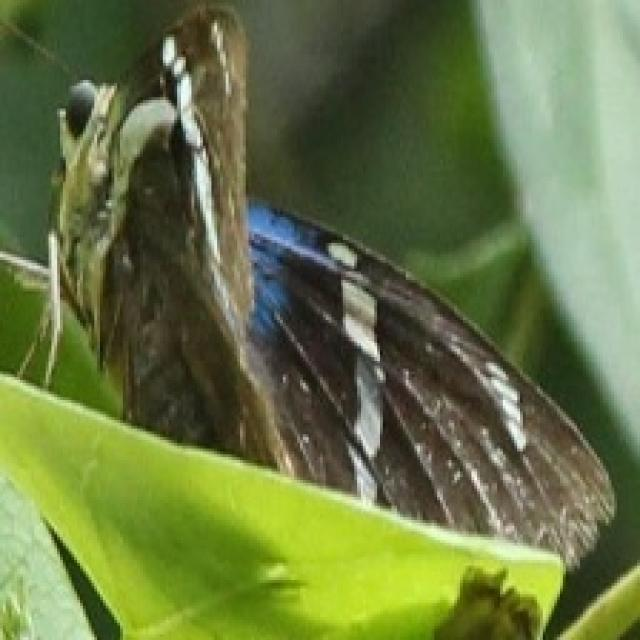butterfly: (0, 0, 617, 571)
